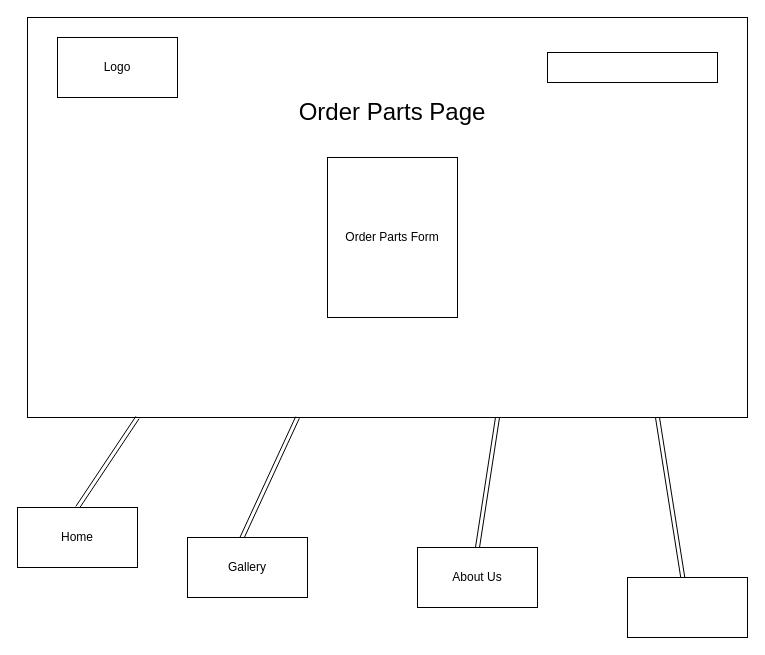
Some shapes in this 765 by 655 pixel diagram are drawn without their labels. The box of each missing label's shape, as (x1, y1, x2, y2) in pixels:
Contact Us: (626, 576, 748, 638)
Nav Bar: (546, 52, 718, 82)
